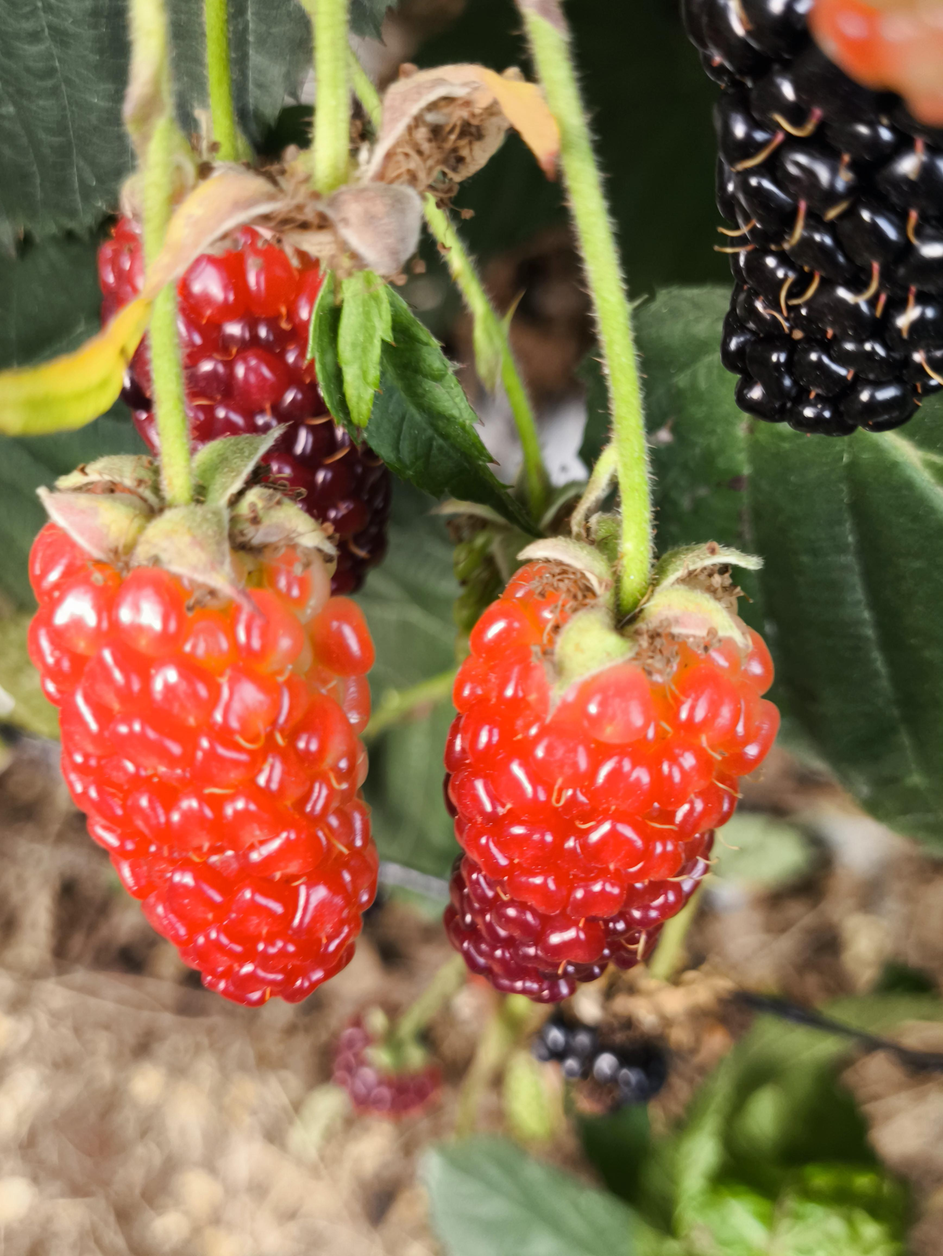maduro: (684, 0, 943, 436)
marron: (447, 538, 781, 1001)
naranja: (29, 462, 379, 1006)
